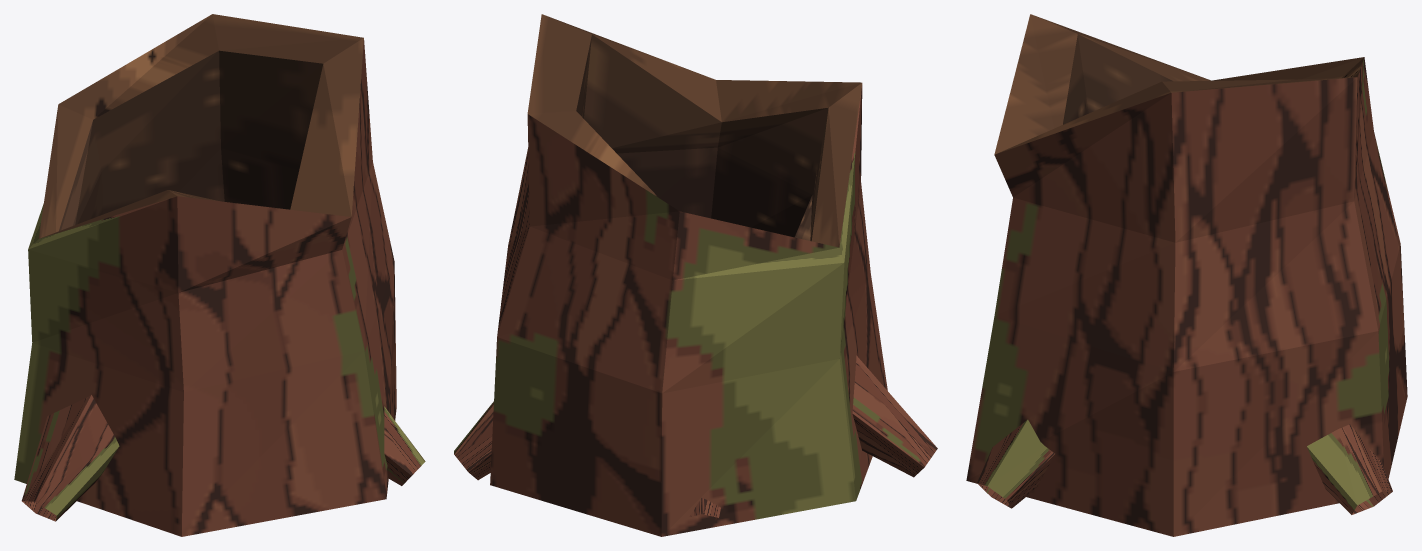
File: SM_DW07_StumpHollow.fbx
3 views of the same model, side by side, from view 1: azimuth 30°, elevation 25°; view 2: azimuth 150°, elevation 25°; view 3: azimuth 270°, elevation 25° (orthographic). The views are drawn at different scales.
Visible parts, largest first — view 1: DW07_Bark, DW07_Wood; view 2: DW07_Bark, DW07_Wood; view 3: DW07_Bark, DW07_Wood.
Part boxes in pixels (x1,y1,x2,y2): DW07_Bark: (14,40,425,536); DW07_Wood: (38,14,363,238); DW07_Bark: (454,84,937,536); DW07_Wood: (527,14,862,247); DW07_Bark: (966,57,1407,536); DW07_Wood: (994,14,1364,154).
Size of the model in its own units: 1.03 by 0.9578 by 0.8922.
